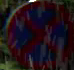No waiting: (5, 0, 73, 69)
